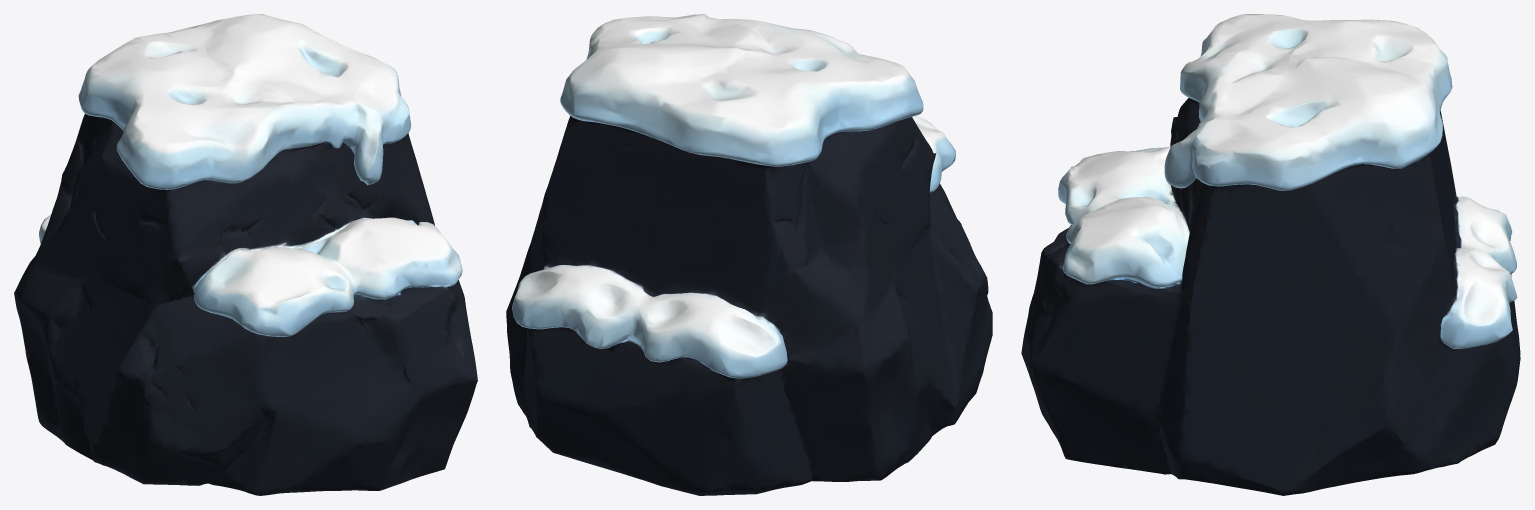
The model's file is rock_raw.glb.
3 renders of one model, left to right at view 1: azimuth 30°, elevation 25°; view 2: azimuth 150°, elevation 25°; view 3: azimuth 270°, elevation 25°, orthographic. The views are drawn at different scales.
Visible parts, largest first — view 1: tripo_node_f37f1464-b1e6-4289-ab8f-5e3ca836a850; view 2: tripo_node_f37f1464-b1e6-4289-ab8f-5e3ca836a850; view 3: tripo_node_f37f1464-b1e6-4289-ab8f-5e3ca836a850.
Part boxes in pixels (x1,y1,x2,y2): tripo_node_f37f1464-b1e6-4289-ab8f-5e3ca836a850: (14,14,477,495); tripo_node_f37f1464-b1e6-4289-ab8f-5e3ca836a850: (506,14,992,495); tripo_node_f37f1464-b1e6-4289-ab8f-5e3ca836a850: (1021,14,1520,495).
Size of the model in its own units: 0.8535 by 0.7994 by 1.
Materials: 1 (1 with a texture image).
